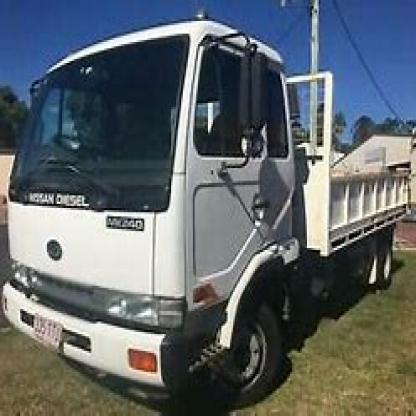dump_truck: (10, 12, 414, 410)
